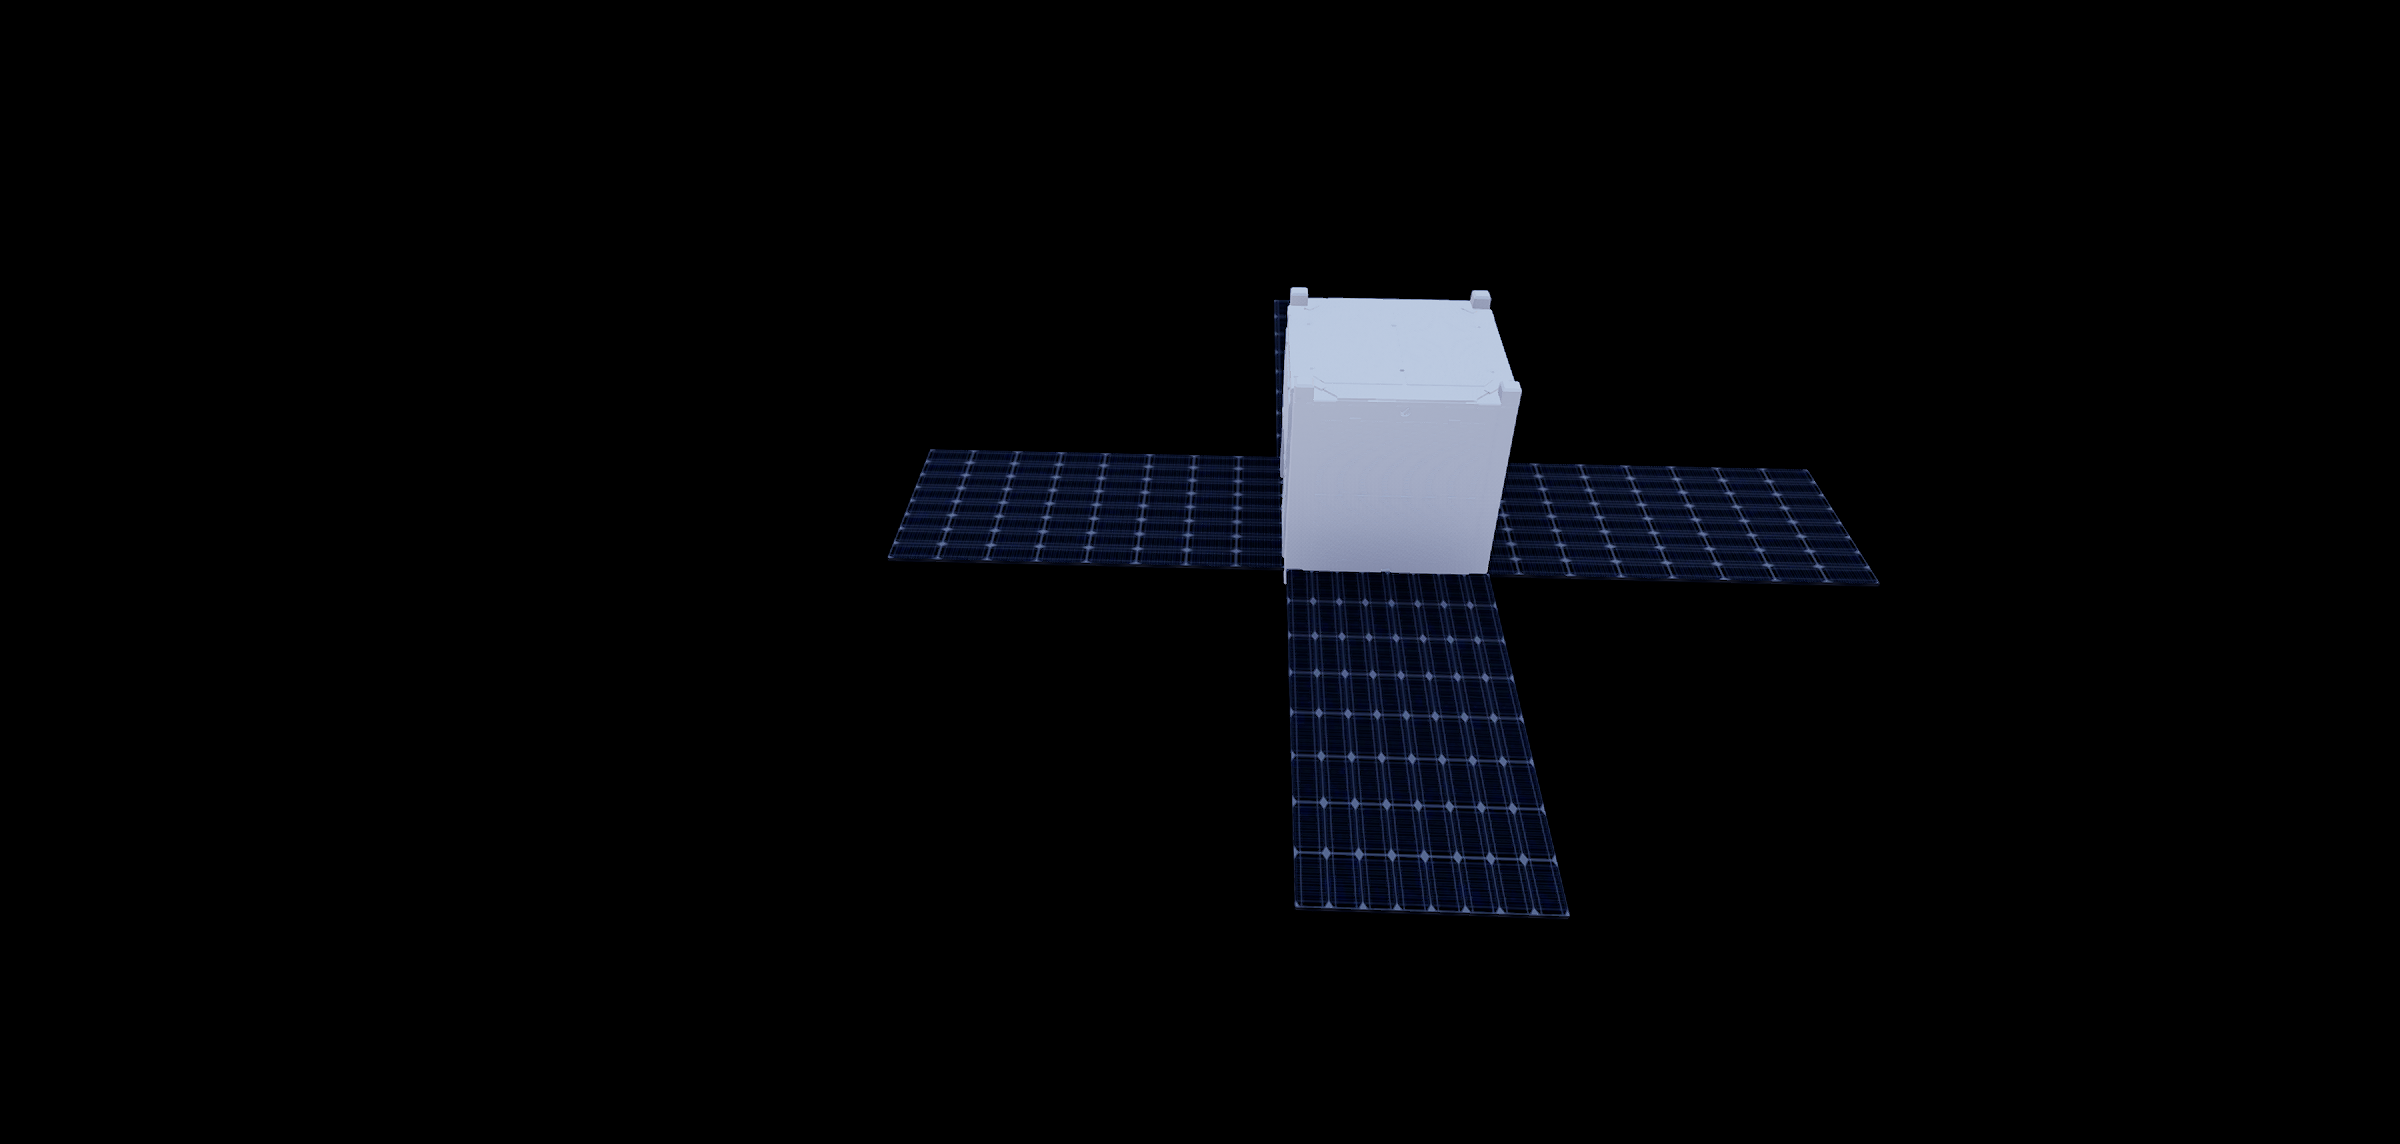satellite: (854, 236, 1909, 956)
